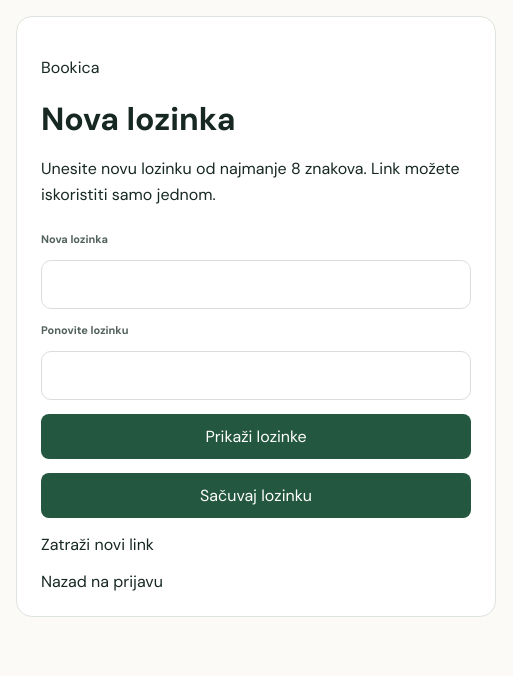
Test: requires matching passwords, then clears the old local session on success
In the password field labelled "Nova lozinka": [256, 285] box [41,260,471,309], type "new-password-42"
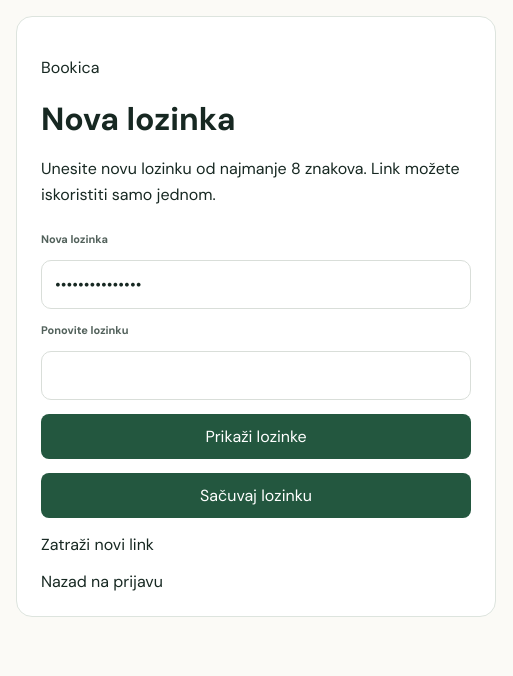
In the password field labelled "Ponovite lozinku": [256, 376] box [41,351,471,400], type "wrong-password"
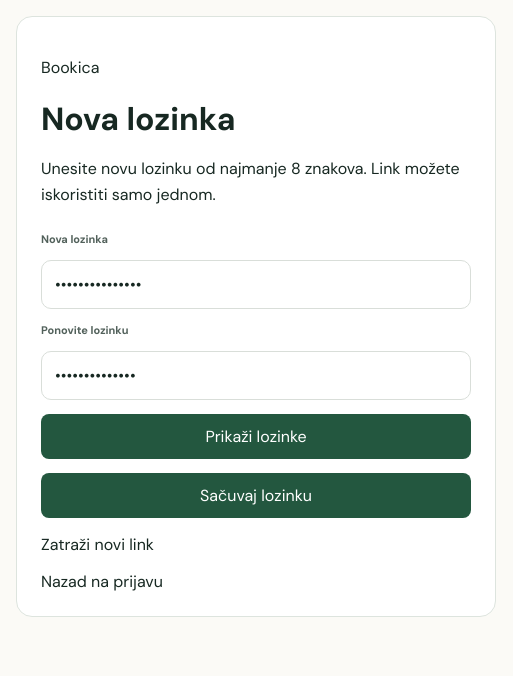
Click the button "Sačuvaj lozinku": [256, 496] box [41,473,471,518]
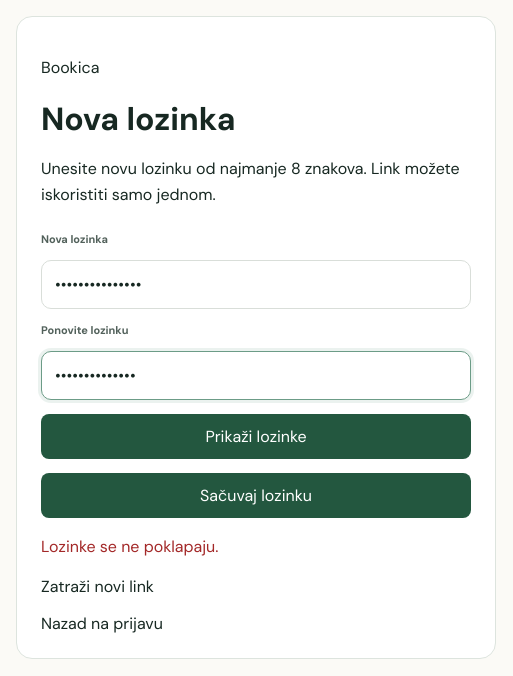
Expected: the message shows "ne poklapaju", [41,536,218,557]
In the password field labelled "Ponovite lozinku": [256, 376] box [41,351,471,400], type "new-password-42"
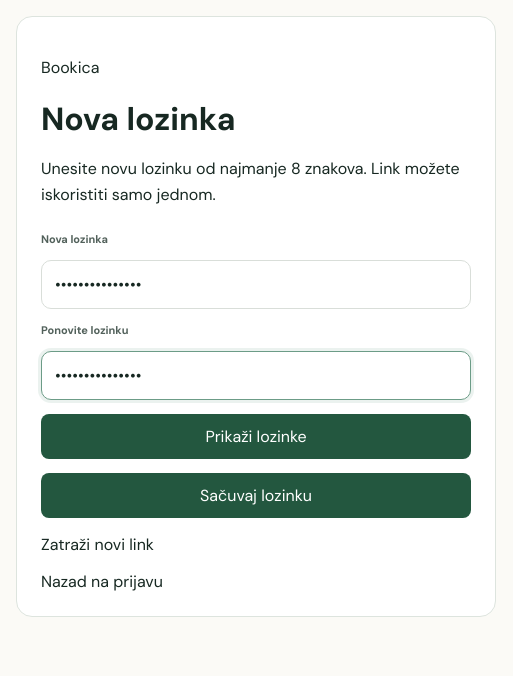
Click the button "Sačuvaj lozinku": [256, 496] box [41,473,471,518]
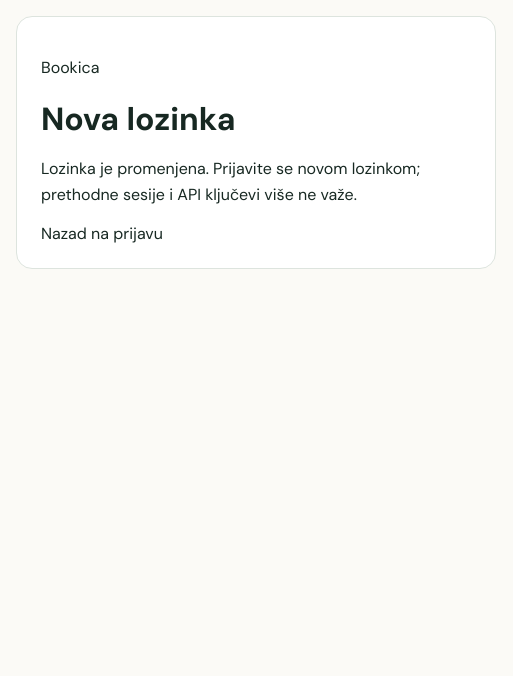
Expected: the message shows "Lozinka je promenjena", [41,158,420,205]
